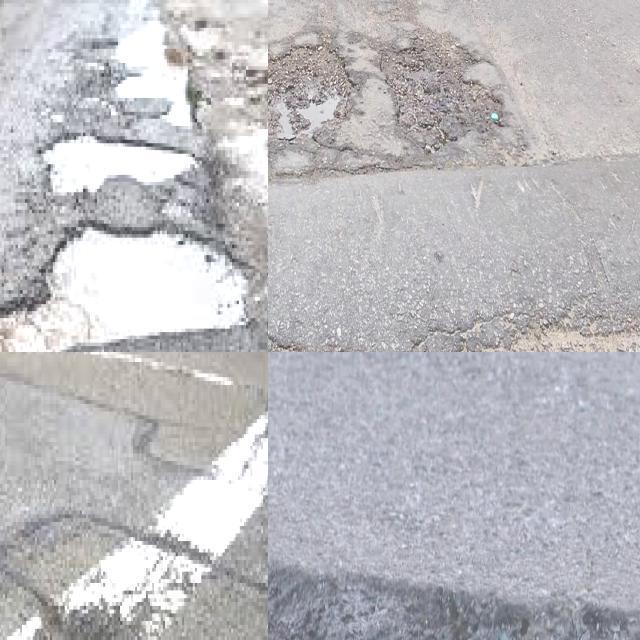Pothole: (0, 227, 246, 352), (268, 563, 640, 640), (381, 36, 497, 141), (268, 38, 349, 141), (48, 136, 192, 192), (116, 28, 190, 126)
